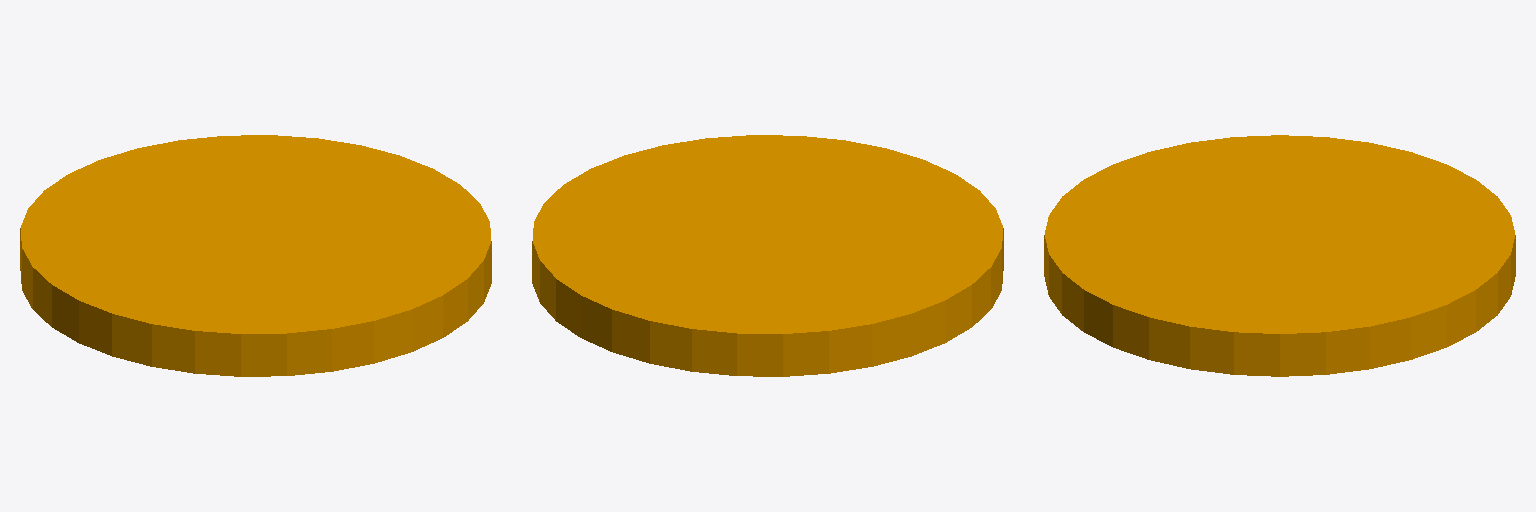
The robot description file, URDF, robot "cylinder.urdf":
<?xml version="1.0" ?>
<robot name="cylinder.urdf">

  <link name="cylinder">
		<inertial>
			<mass value="0.3"/>
			<!-- cylindrical shell : Izz=m*r^2; Ixx=Iyy=1/12*m*(6*r^2+h^2) -->
			<!-- solid cylinder : Izz=(m*r^2)/2; Ixx=Iyy=1/12*m*(3*r^2+h^2) -->
			<inertia  ixx="0.002385" ixy="0.00"  ixz="0.00" iyy="0.002385" iyz="0.00" izz="0.00027" />
		</inertial>
		<visual>
			<origin xyz="0 0 0" rpy="0 0 0"/>
			<geometry>
				<cylinder length="0.03" radius="0.15"/>
			</geometry>
		</visual>
		<collision>
			<origin xyz="0 0 0" rpy="0 0 0"/>
			<geometry>
				<cylinder length="0.03" radius="0.15"/>
			</geometry>
		</collision>
	</link>

</robot>

--- Render facts (derived) ---
The picture shows the robot from 3 angles, left to right: view 1: azimuth 30°, elevation 25°; view 2: azimuth 150°, elevation 25°; view 3: azimuth 270°, elevation 25°; orthographic projection.
Robot: cylinder.urdf — 1 links, 0 joints (none); root link cylinder; default pose: all joints at 0.
Links seen in each view (by area): view 1: cylinder; view 2: cylinder; view 3: cylinder.
Link boxes in pixels (x1,y1,x2,y2): cylinder: (20,135,491,376); cylinder: (532,135,1003,376); cylinder: (1044,135,1515,376).
Bounding box of the posed robot: 0.3 × 0.3 × 0.03 m (x, y, z).
Geometry: primitives only (box / cylinder / sphere), no mesh files.